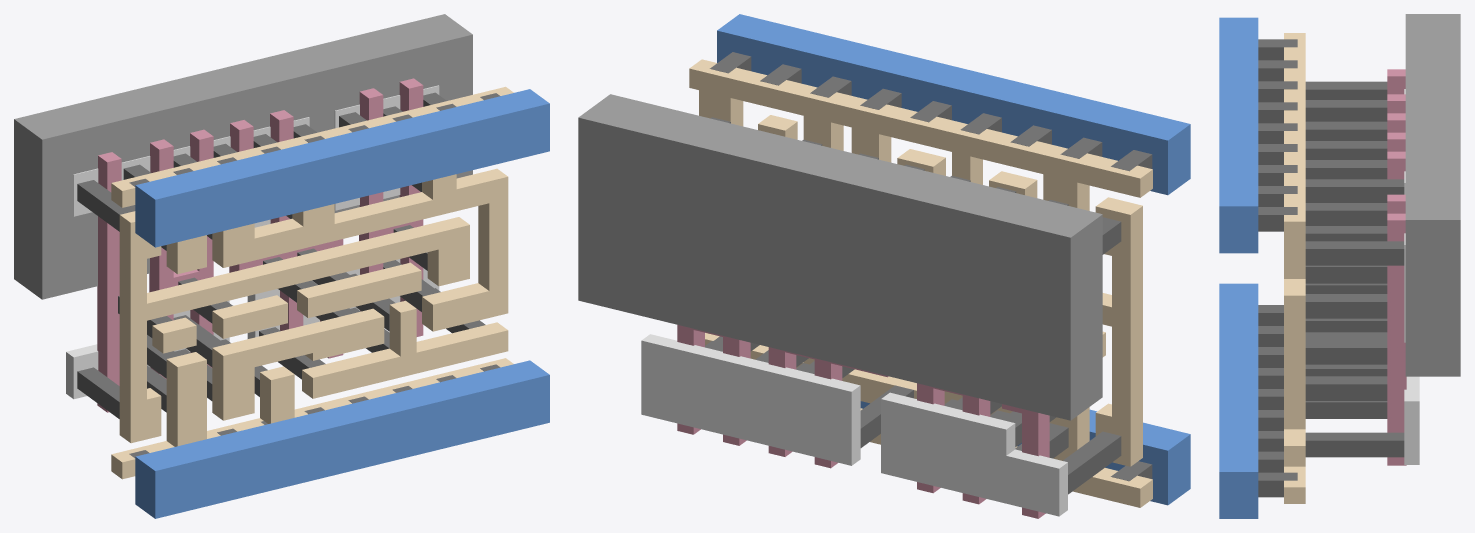
The model's file is sky130_fd_sc_hd__nand3b_2.gds.gltf.
3 views of the same model, side by side, from view 1: azimuth 30°, elevation 25°; view 2: azimuth 150°, elevation 25°; view 3: azimuth 270°, elevation 25° (orthographic). The views are drawn at different scales.
Visible parts, largest first — view 1: sky130_fd_sc_hd__nand3b_2_li1, sky130_fd_sc_hd__nand3b_2_met1, sky130_fd_sc_hd__nand3b_2_nwell, sky130_fd_sc_hd__nand3b_2_poly, sky130_fd_sc_hd__nand3b_2_licon, sky130_fd_sc_hd__nand3b_2_diff, sky130_fd_sc_hd__nand3b_2_mcon; view 2: sky130_fd_sc_hd__nand3b_2_nwell, sky130_fd_sc_hd__nand3b_2_li1, sky130_fd_sc_hd__nand3b_2_diff, sky130_fd_sc_hd__nand3b_2_met1, sky130_fd_sc_hd__nand3b_2_licon, sky130_fd_sc_hd__nand3b_2_poly, sky130_fd_sc_hd__nand3b_2_mcon; view 3: sky130_fd_sc_hd__nand3b_2_licon, sky130_fd_sc_hd__nand3b_2_nwell, sky130_fd_sc_hd__nand3b_2_met1, sky130_fd_sc_hd__nand3b_2_mcon, sky130_fd_sc_hd__nand3b_2_li1, sky130_fd_sc_hd__nand3b_2_poly, sky130_fd_sc_hd__nand3b_2_diff.
Boxes of the visible parts, x1=… form: sky130_fd_sc_hd__nand3b_2_li1: x1=111, y1=86, x2=513, y2=479; sky130_fd_sc_hd__nand3b_2_met1: x1=135, y1=89, x2=549, y2=518; sky130_fd_sc_hd__nand3b_2_nwell: x1=14, y1=14, x2=472, y2=299; sky130_fd_sc_hd__nand3b_2_poly: x1=97, y1=78, x2=423, y2=412; sky130_fd_sc_hd__nand3b_2_licon: x1=77, y1=92, x2=485, y2=418; sky130_fd_sc_hd__nand3b_2_diff: x1=66, y1=85, x2=439, y2=399; sky130_fd_sc_hd__nand3b_2_mcon: x1=129, y1=93, x2=500, y2=457; sky130_fd_sc_hd__nand3b_2_nwell: x1=578, y1=94, x2=1102, y2=420; sky130_fd_sc_hd__nand3b_2_li1: x1=689, y1=59, x2=1152, y2=507; sky130_fd_sc_hd__nand3b_2_diff: x1=641, y1=334, x2=1067, y2=516; sky130_fd_sc_hd__nand3b_2_met1: x1=717, y1=14, x2=1190, y2=505; sky130_fd_sc_hd__nand3b_2_licon: x1=705, y1=117, x2=1121, y2=494; sky130_fd_sc_hd__nand3b_2_poly: x1=677, y1=325, x2=1049, y2=518; sky130_fd_sc_hd__nand3b_2_mcon: x1=710, y1=52, x2=1152, y2=481; sky130_fd_sc_hd__nand3b_2_licon: x1=1305, y1=81, x2=1404, y2=457; sky130_fd_sc_hd__nand3b_2_nwell: x1=1405, y1=14, x2=1460, y2=376; sky130_fd_sc_hd__nand3b_2_met1: x1=1219, y1=17, x2=1258, y2=518; sky130_fd_sc_hd__nand3b_2_mcon: x1=1258, y1=39, x2=1297, y2=497; sky130_fd_sc_hd__nand3b_2_li1: x1=1284, y1=33, x2=1305, y2=503; sky130_fd_sc_hd__nand3b_2_poly: x1=1387, y1=69, x2=1406, y2=465; sky130_fd_sc_hd__nand3b_2_diff: x1=1404, y1=89, x2=1419, y2=464.
Size of the model in its own units: 4.52 by 3.2 by 2.24.
